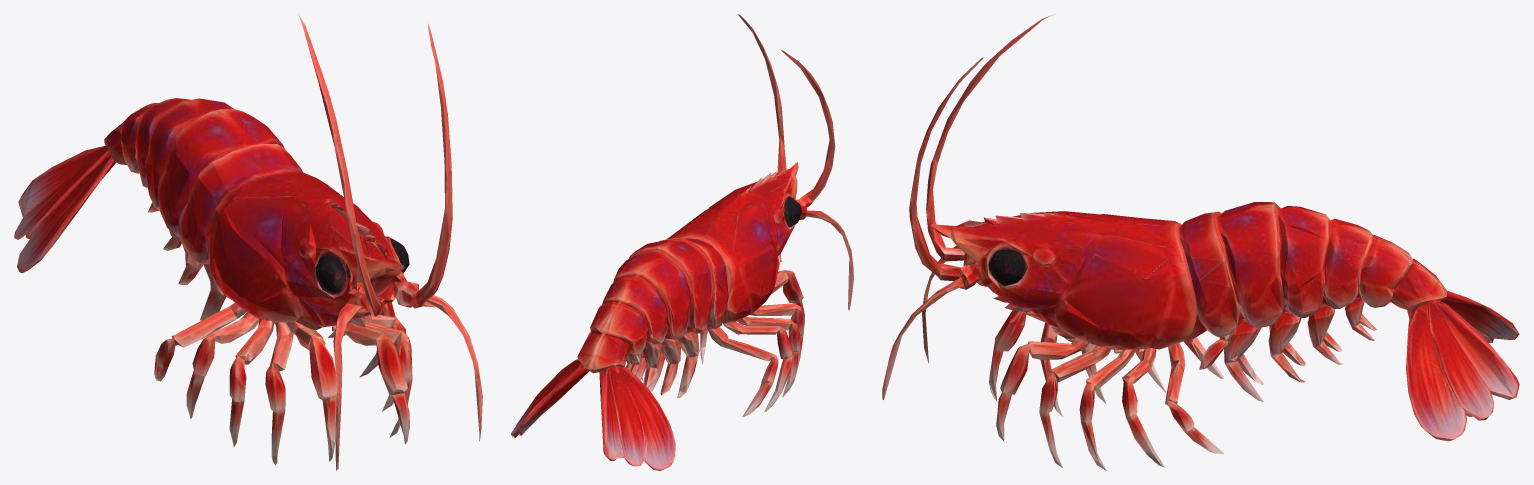
Rendered from shrimp.glb.
3 views of the same model, side by side, from view 1: azimuth 30°, elevation 25°; view 2: azimuth 150°, elevation 25°; view 3: azimuth 270°, elevation 25° (orthographic). The views are drawn at different scales.
Bounding box in the file's own units: 0.1 × 0.2 × 0.2806.
1 material, 1 textured.
